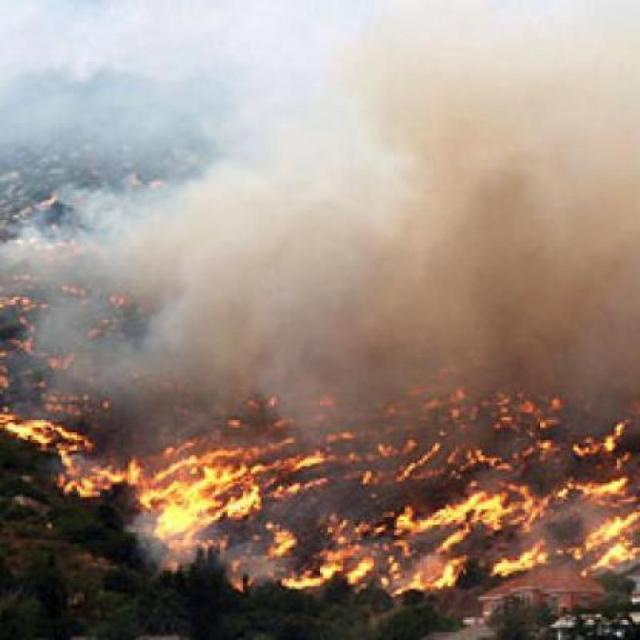Fire: (33, 361, 640, 640)
Smoke: (100, 81, 640, 354)
